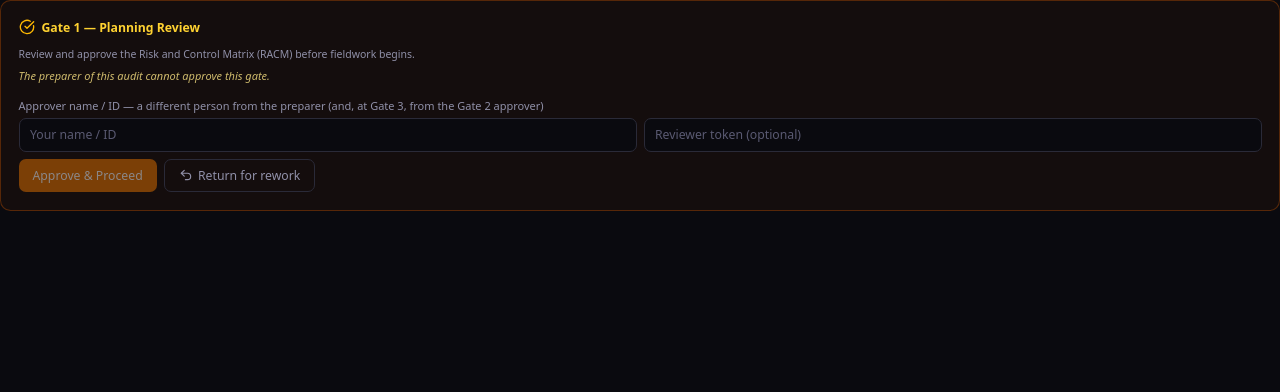
Test: ApprovalGate › disables Return for rework until notes are entered
In the field with placeholder "Your name / ID": coordinates (328, 135) x1=18 y1=118 x2=636 y2=152, type "M. Alvarez"
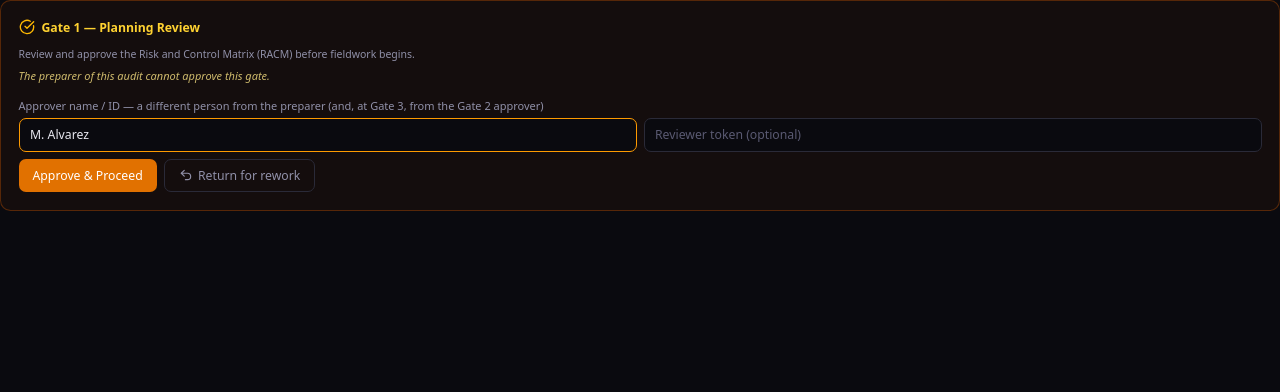
Click the button "Return for rework": coordinates (240, 175) x1=164 y1=158 x2=315 y2=192
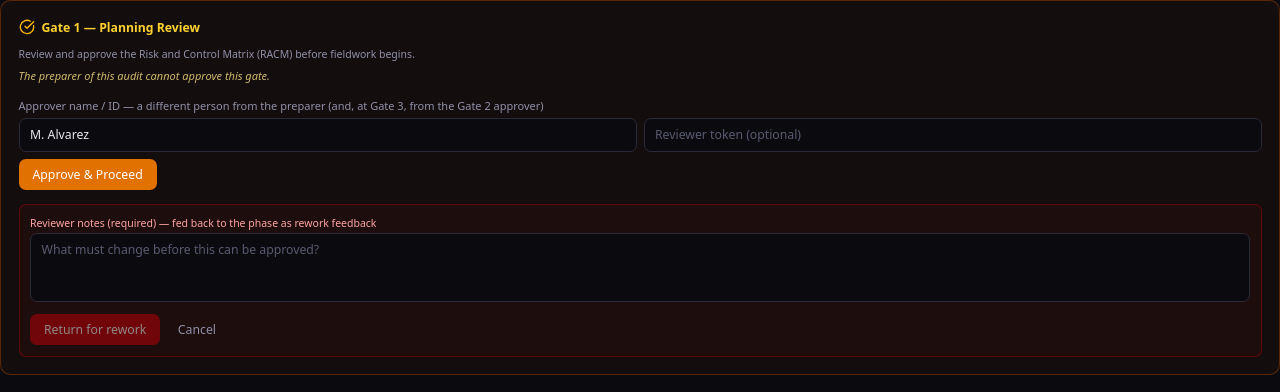
Expected: the button "Return for rework" is disabled, x1=30 y1=314 x2=160 y2=345
In the text box with placeholder "What must change before this can be approved?": coordinates (640, 267) x1=30 y1=233 x2=1250 y2=302, type "Please add a completeness procedure for CTRL-001."
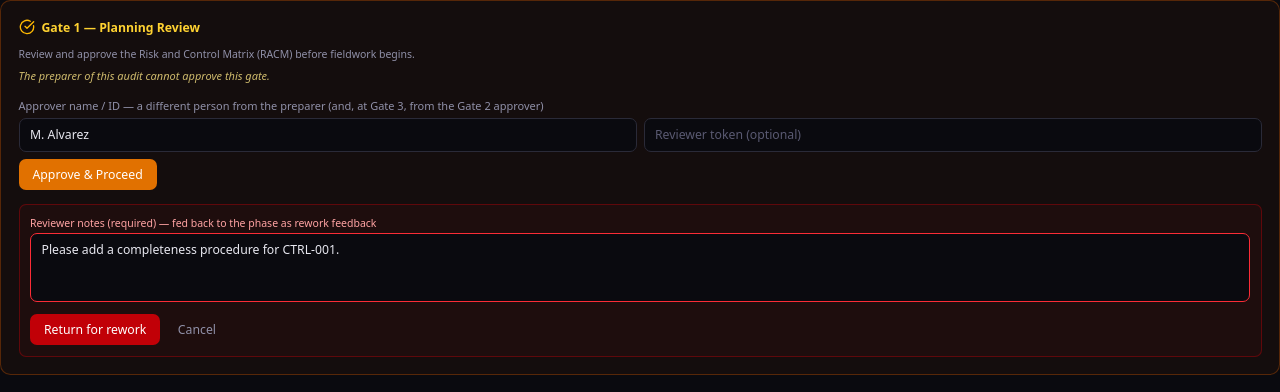
Now the button "Return for rework" is enabled, box x1=30 y1=314 x2=160 y2=345
